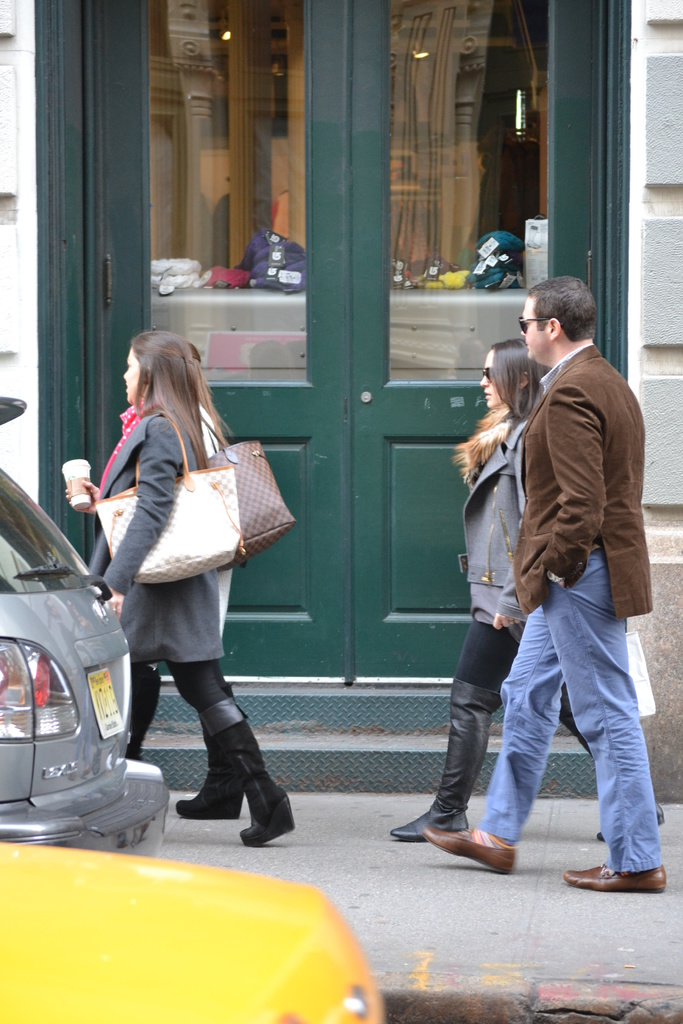Car: (0, 833, 384, 1023), (6, 471, 159, 855)
